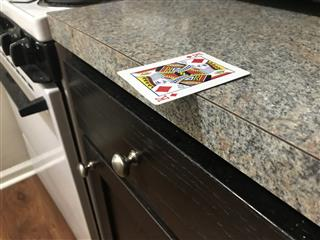KingOfDiamonds: (115, 50, 250, 105)
